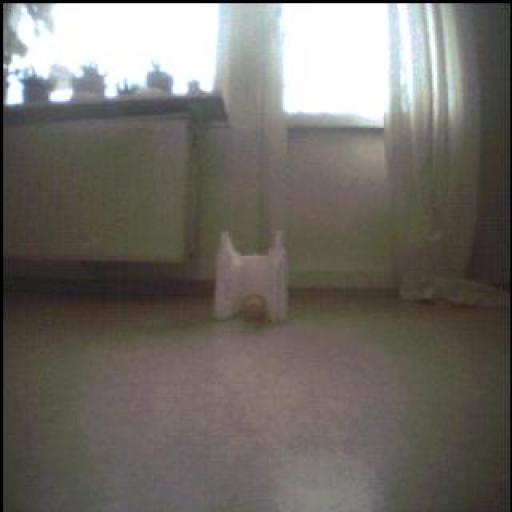Basket: (242, 296, 270, 326)
